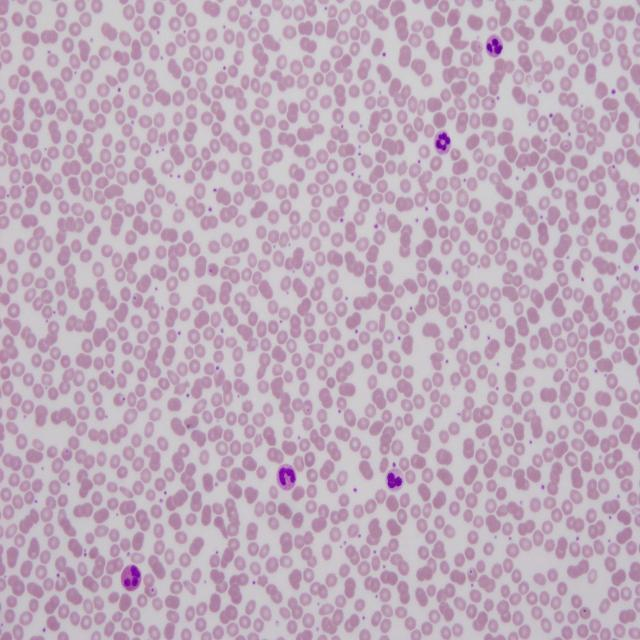cell: (276, 464, 296, 491), (386, 467, 404, 489), (486, 35, 502, 57), (435, 131, 451, 153)
